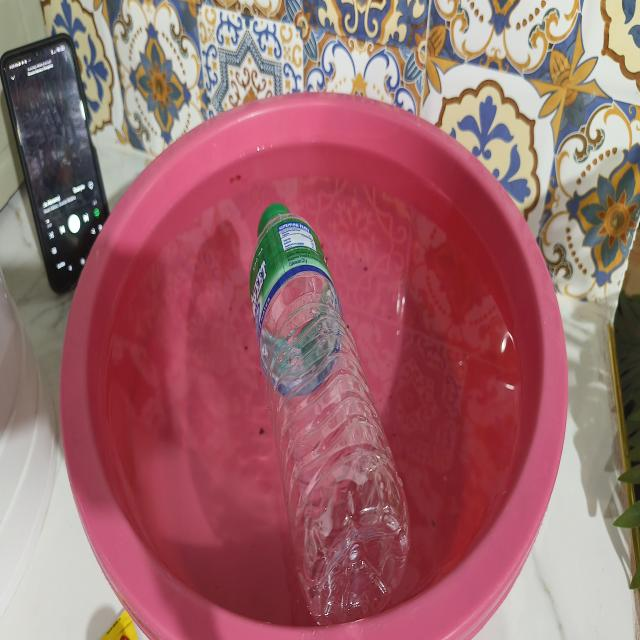Plastic Bottle: (251, 213, 410, 625)
